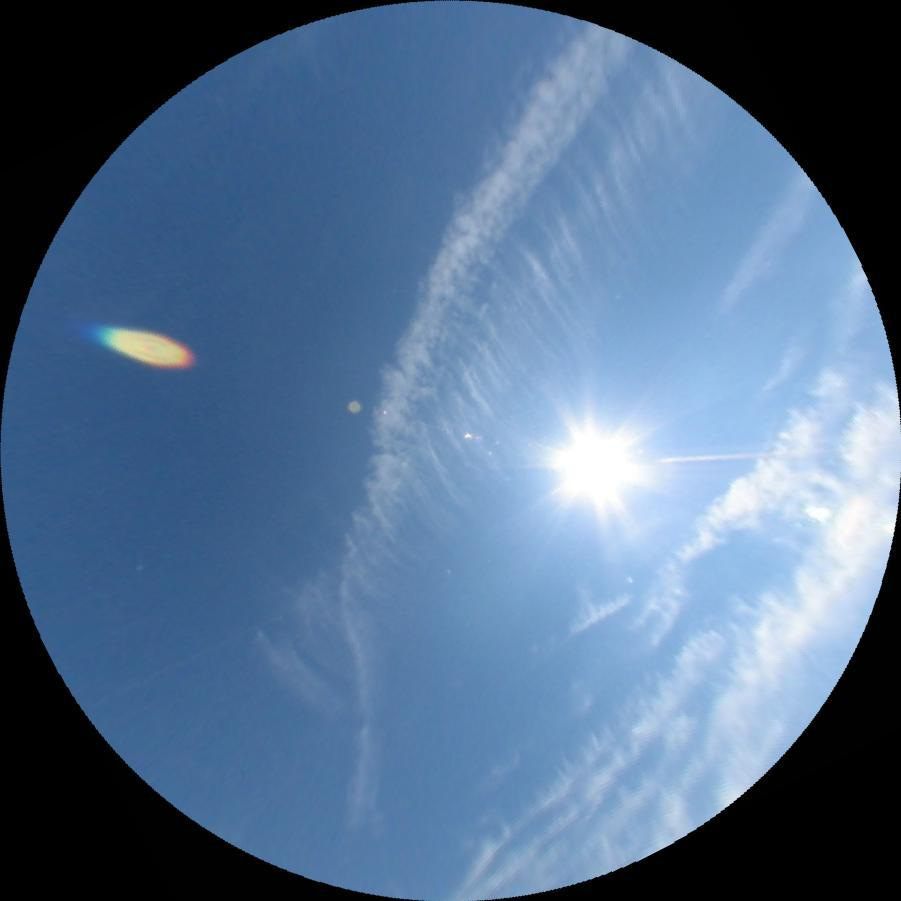contrail veryold: (232, 38, 761, 740), (234, 0, 643, 837), (713, 169, 830, 322)
parasite: (654, 450, 769, 464)
sun: (564, 434, 633, 497)
